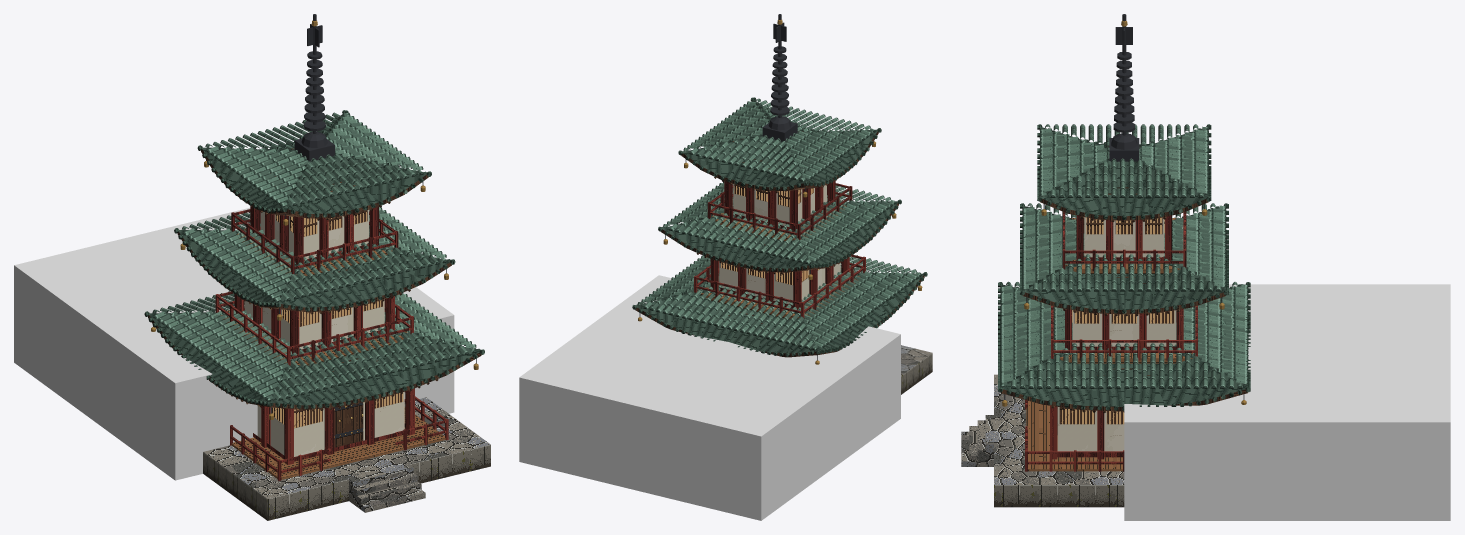
Rendered from JP_Temple_Pagoda_A.glb.
3 renders of one model, left to right at view 1: azimuth 30°, elevation 25°; view 2: azimuth 150°, elevation 25°; view 3: azimuth 270°, elevation 25°, orthographic. The views are drawn at different scales.
Visible parts, largest first — view 1: JP_Temple_Pagoda_A, COL_JP_Temple_Pagoda_A; view 2: COL_JP_Temple_Pagoda_A, JP_Temple_Pagoda_A; view 3: JP_Temple_Pagoda_A, COL_JP_Temple_Pagoda_A.
Boxes of the visible parts, x1,y1,x2,y2 form: JP_Temple_Pagoda_A: [144, 14, 490, 520]; COL_JP_Temple_Pagoda_A: [14, 207, 454, 480]; COL_JP_Temple_Pagoda_A: [519, 275, 900, 520]; JP_Temple_Pagoda_A: [632, 14, 932, 394]; JP_Temple_Pagoda_A: [961, 14, 1250, 507]; COL_JP_Temple_Pagoda_A: [1124, 284, 1450, 520].
Size of the model in its own units: 12 by 17.74 by 18.
Materials: 13 (13 with a texture image).
